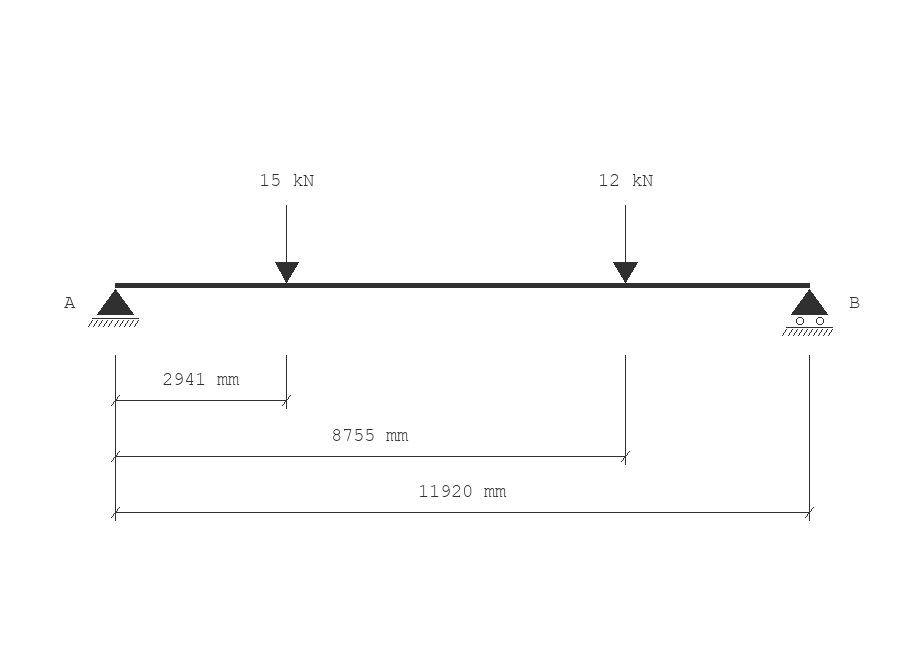pin_support: (88, 289, 139, 327)
point_load: (613, 205, 638, 283), (275, 205, 299, 283)
roller_support: (782, 289, 833, 336)
